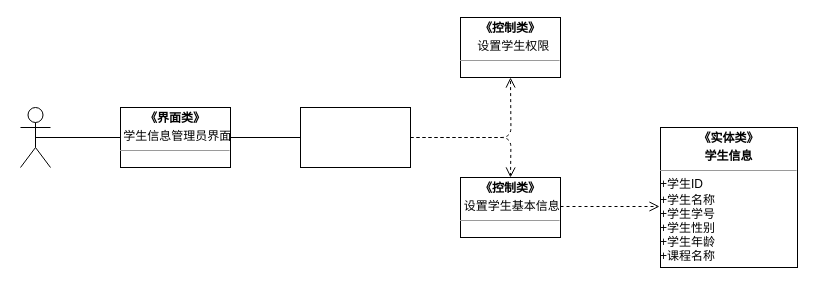
Image size: 815x285. Some labels were removed from this diagram. Here are the shapes that lost their labels. From the top down, the box of each, then its label:
(20, 106, 50, 168): 管理员
(300, 106, 410, 168): 《控制类》 学生信息管理
